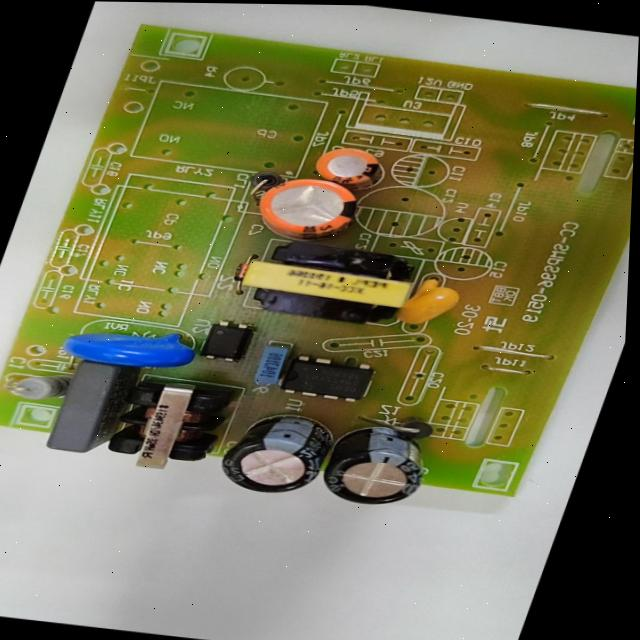Cap1: (239, 170, 369, 250)
Cap2: (308, 144, 392, 187)
Cap3: (211, 404, 346, 502)
Cap4: (315, 418, 450, 514)
MOSFET: (275, 351, 385, 406)
Mov: (51, 317, 208, 375)
Resistor: (0, 366, 76, 405)
Transformer: (235, 235, 434, 333), (91, 374, 248, 480)
